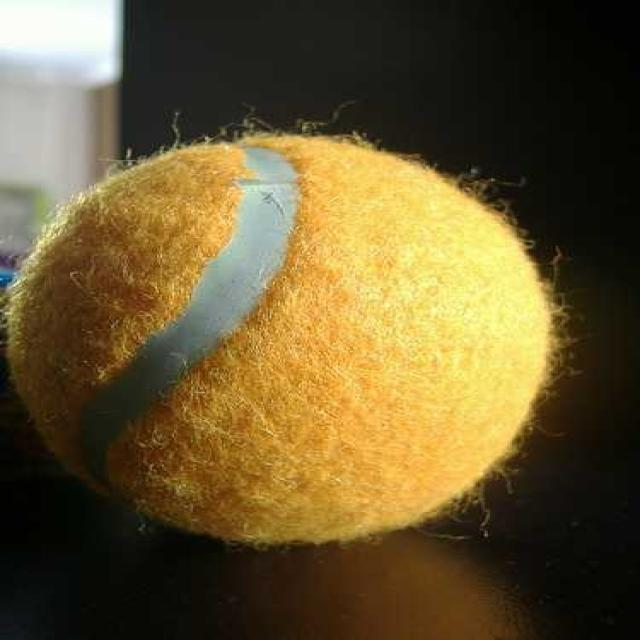Tennis_Ball: (6, 135, 564, 540)
